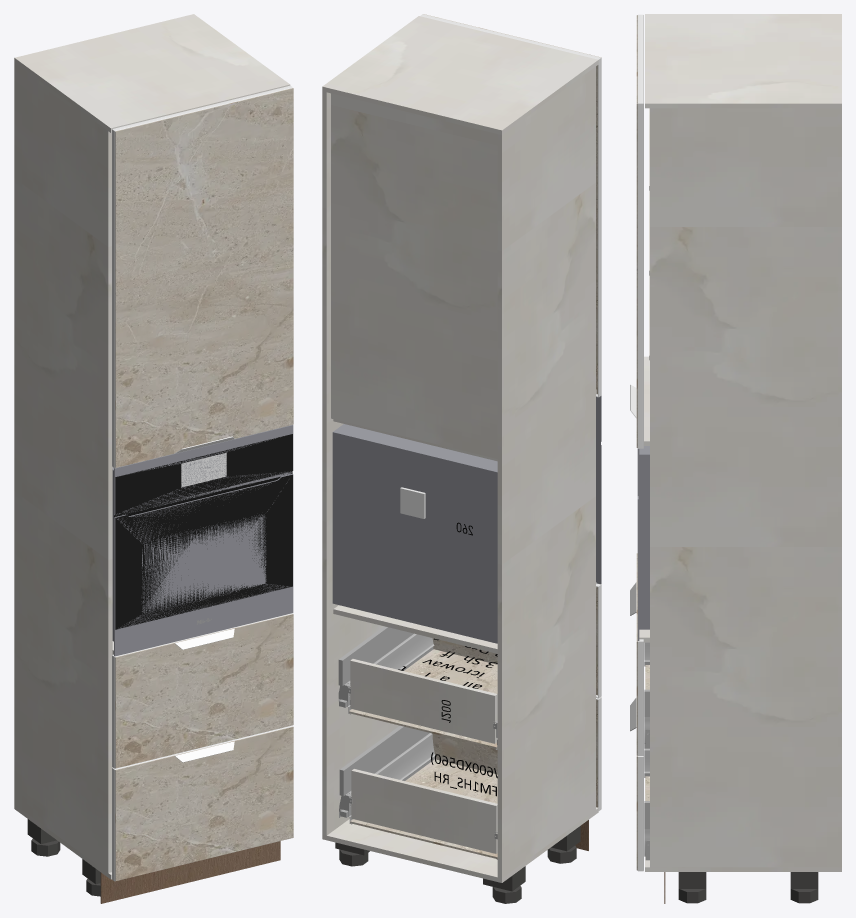
The model's file is TC3S2EHSFO1HS_RH (H2400xW600XD560).glb.
The picture shows the model from 3 angles, left to right: view 1: azimuth 30°, elevation 25°; view 2: azimuth 150°, elevation 25°; view 3: azimuth 270°, elevation 25°; orthographic projection. The views are drawn at different scales.
Size of what is drawn, in the model's own units: 0.6 by 2.5 by 0.5999.
14 materials, 3 textured.
